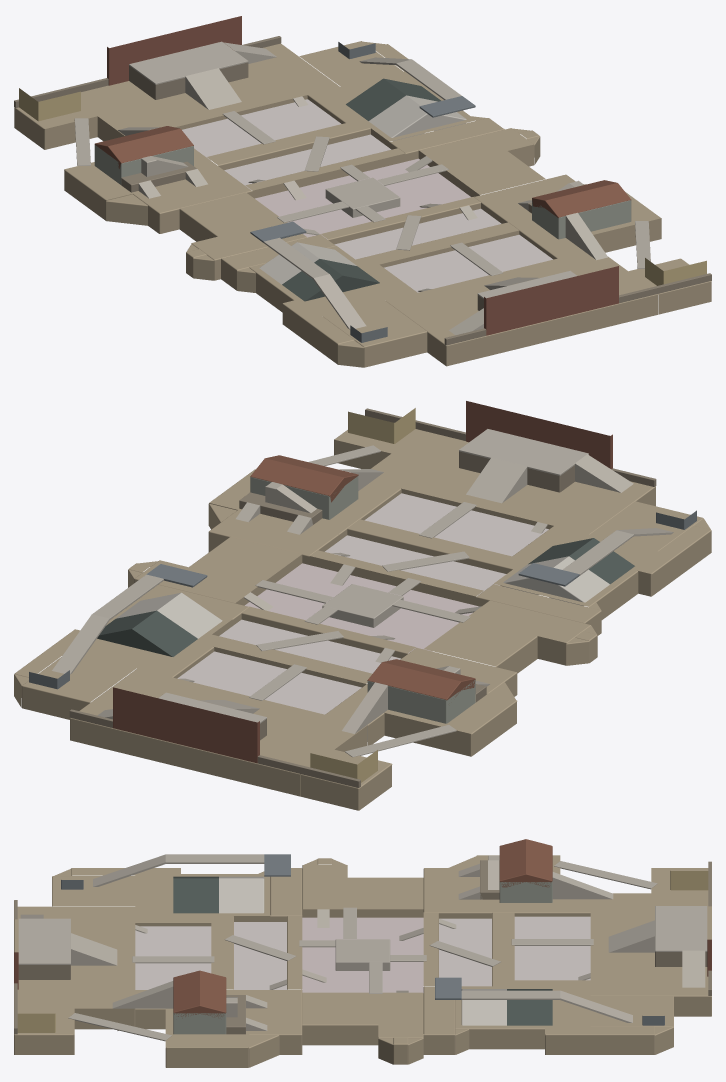
Rendered from saltpan_zones_level.glb.
3 renders of one model, top to bottom at view 1: azimuth 30°, elevation 25°; view 2: azimuth 150°, elevation 25°; view 3: azimuth 270°, elevation 25°, orthographic. The views are drawn at different scales.
Parts seen in each view (by area): view 1: PaintableStage; view 2: PaintableStage; view 3: PaintableStage.
Part boxes in pixels (x1,y1,x2,y2): PaintableStage: (14, 16, 711, 367); PaintableStage: (14, 401, 711, 810); PaintableStage: (14, 839, 711, 1067).
Size of the model in its own units: 60 by 8.71 by 92.
